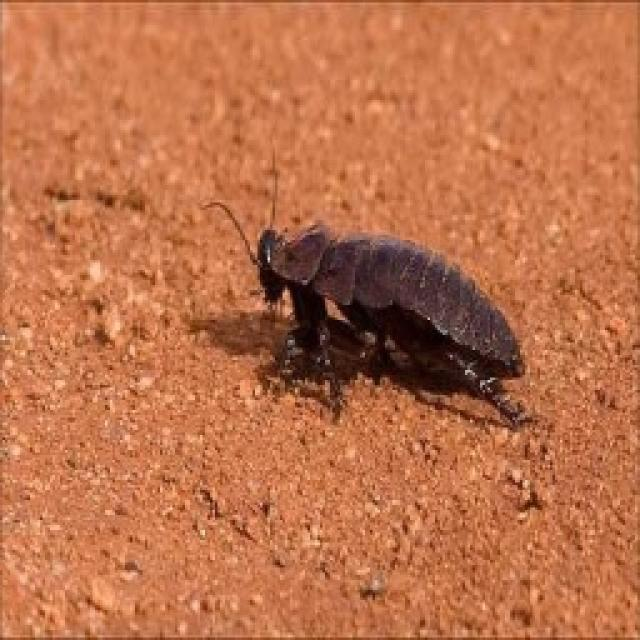cockroach: (197, 159, 552, 439)
